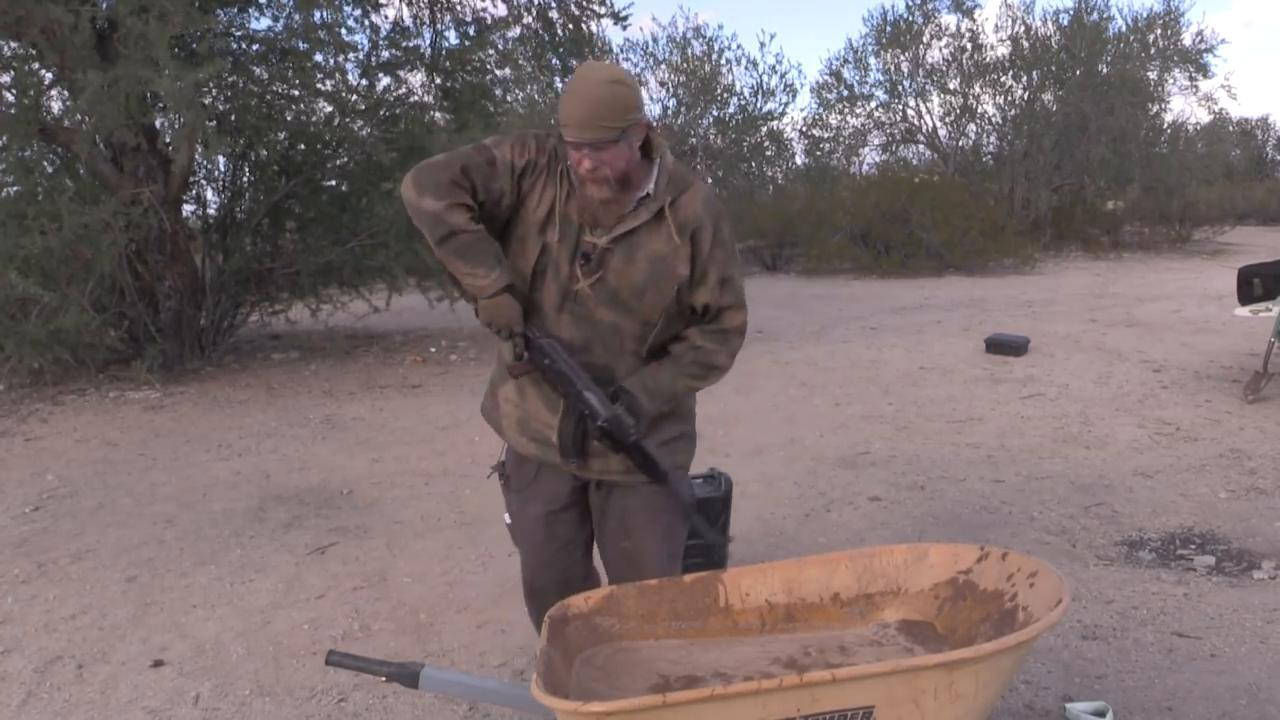AK47 Rifle: (440, 251, 725, 551)
